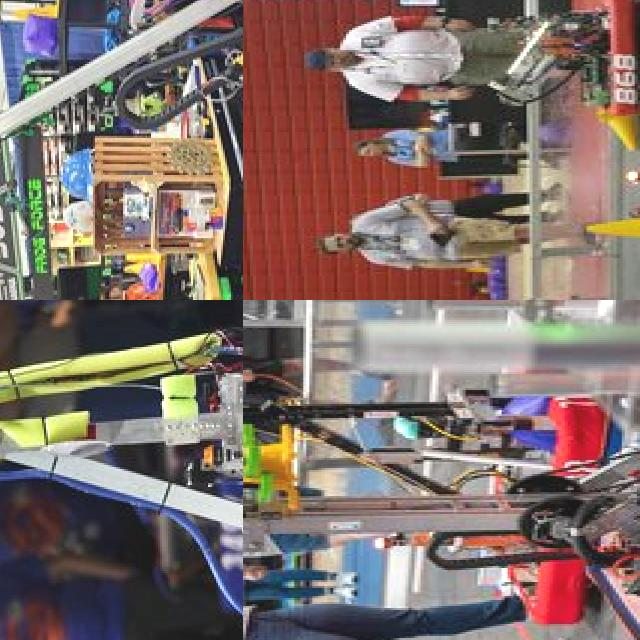FRC-Robots: (243, 332, 640, 628), (0, 300, 243, 640), (0, 0, 243, 300), (458, 0, 640, 151)
